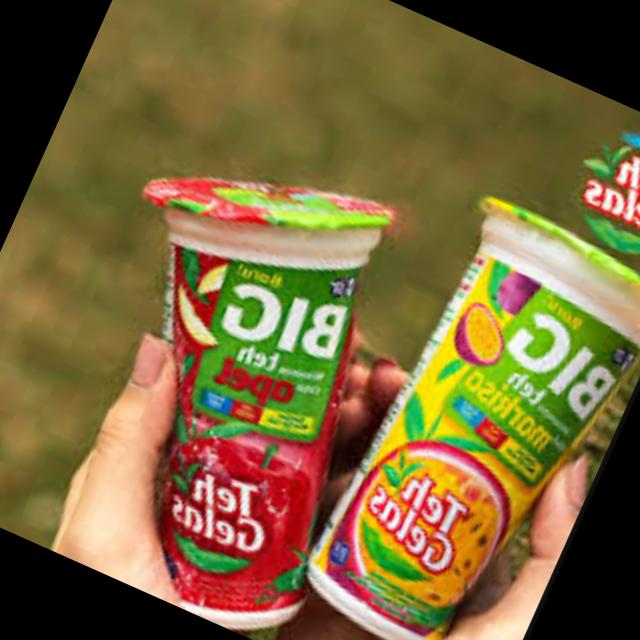GelasPlastik: (0, 109, 470, 640), (289, 183, 640, 640)
